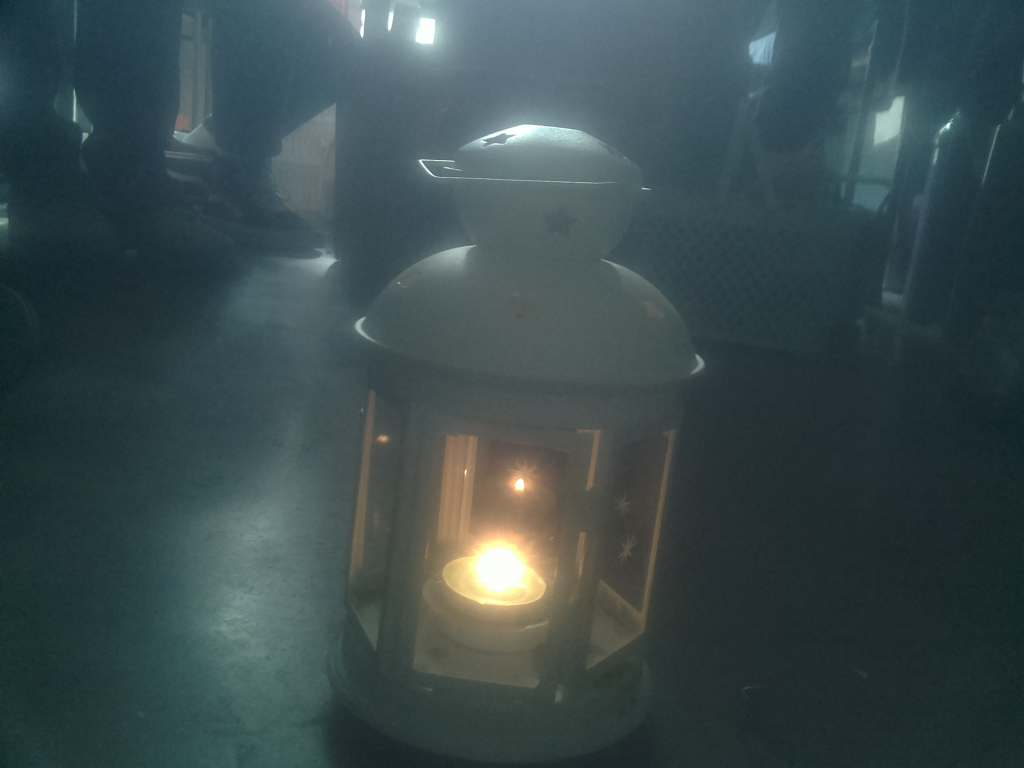fire: (457, 530, 586, 645)
